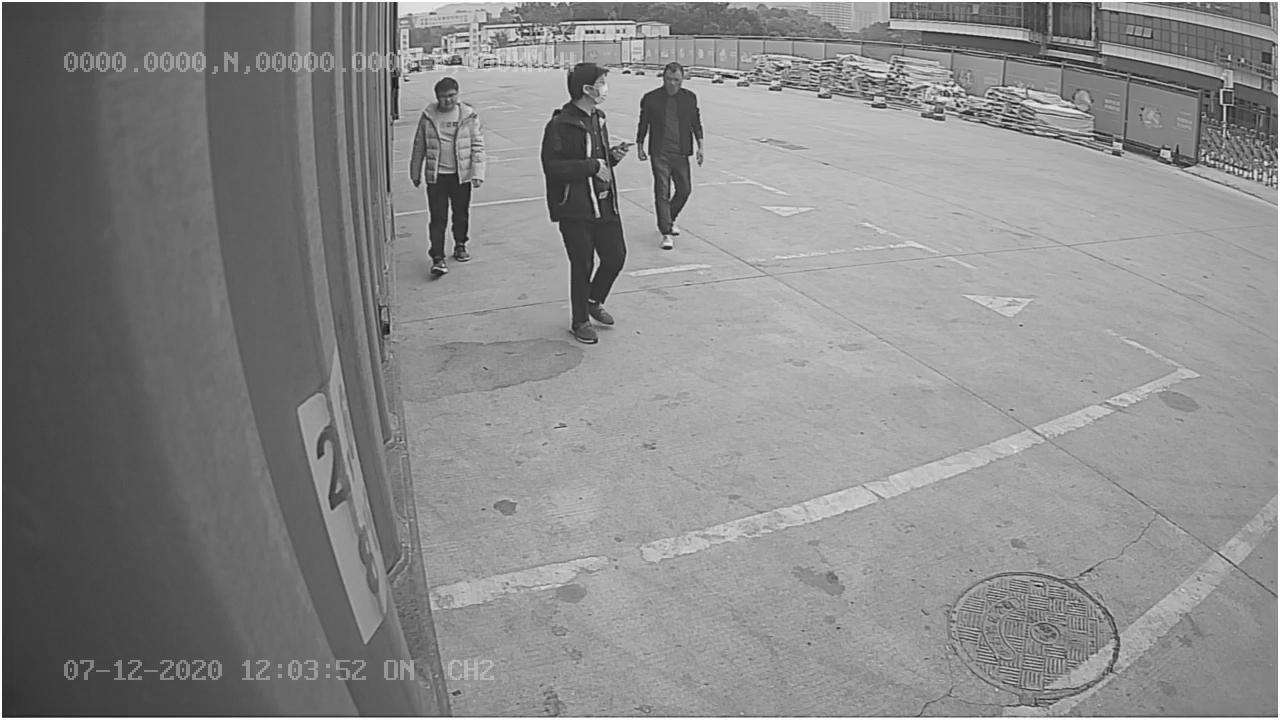person: (536, 58, 628, 348)
